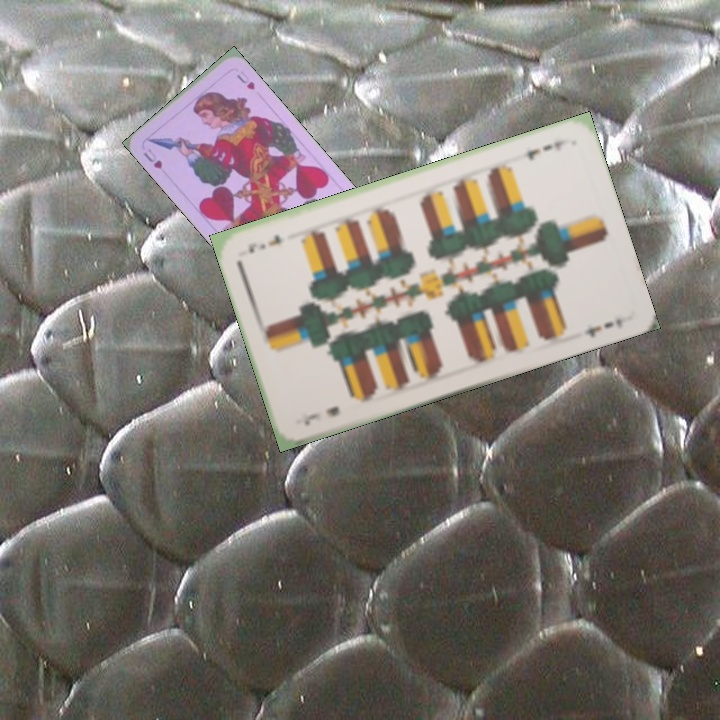E7: (522, 135, 571, 163), (300, 402, 342, 428)
HU: (139, 145, 165, 172)
